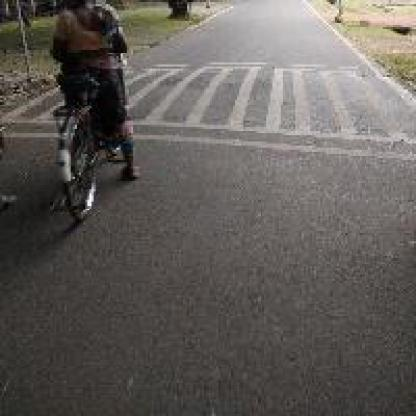Speed Bump: (137, 58, 414, 164)
